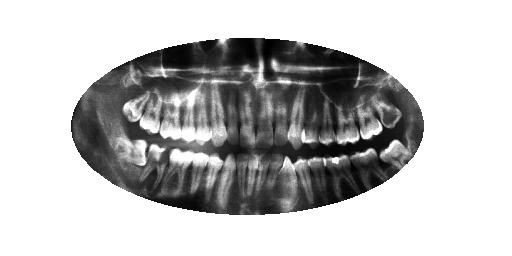Cavity: (139, 144, 169, 190), (372, 92, 403, 129)
Fillings: (324, 155, 354, 197)
Impacted Tooth: (111, 138, 147, 166), (379, 140, 412, 169)
